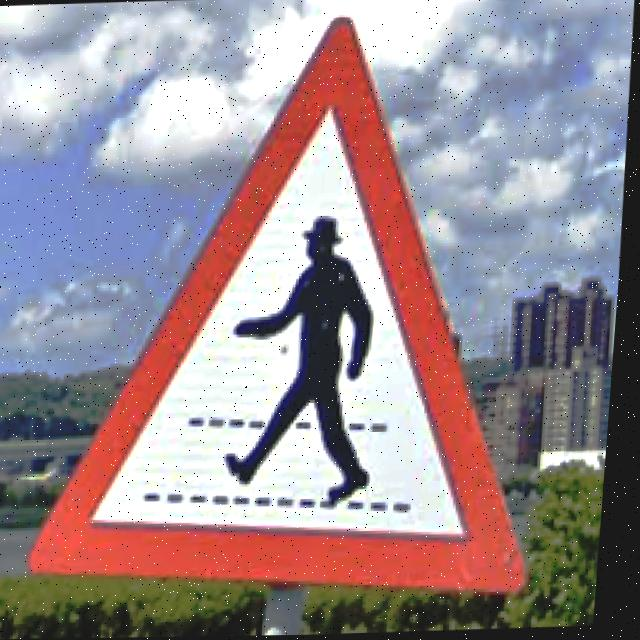pedestriancross: (33, 18, 534, 589)
